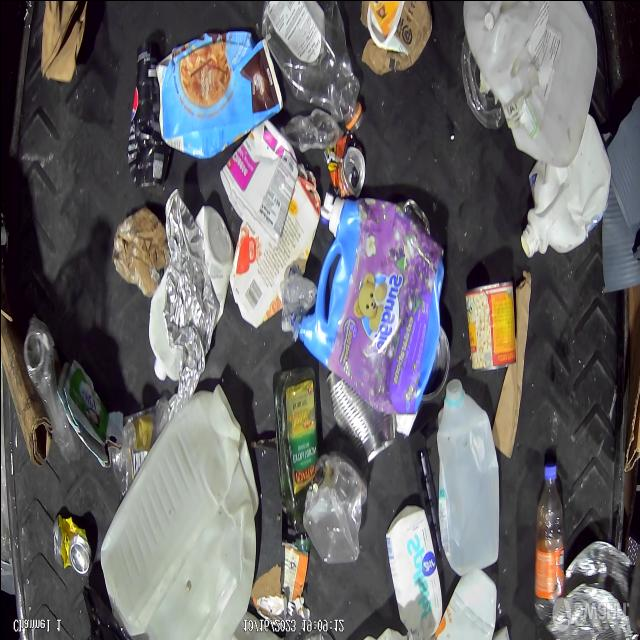can: (323, 369, 397, 472), (464, 279, 516, 372), (322, 130, 366, 198), (51, 510, 92, 574), (279, 537, 309, 617)
milk_jug: (97, 377, 261, 640), (501, 0, 597, 169), (519, 108, 612, 259), (434, 376, 500, 574), (461, 0, 549, 108), (384, 501, 441, 640), (434, 568, 498, 640)
non_white_jug: (297, 195, 445, 414), (152, 28, 285, 160)
plastic_bottle: (260, 0, 366, 137), (532, 460, 566, 622), (280, 108, 344, 150)
